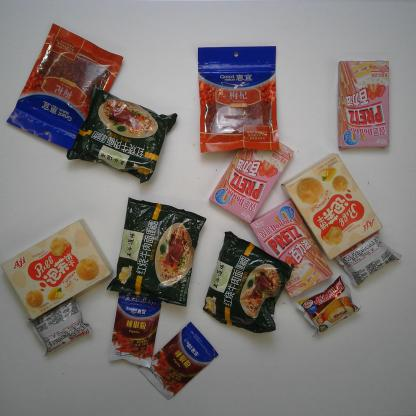Dessert: (0, 218, 114, 320), (278, 152, 384, 261), (249, 199, 334, 299), (208, 136, 296, 224), (334, 59, 392, 151), (294, 274, 362, 338), (26, 296, 94, 358), (333, 230, 402, 288)
Dried Fruit: (4, 22, 123, 150), (196, 45, 280, 153)
Instant Noodles: (64, 83, 179, 185), (106, 196, 207, 308), (202, 230, 294, 334)
Seasoner: (139, 322, 220, 400), (108, 291, 162, 369)
